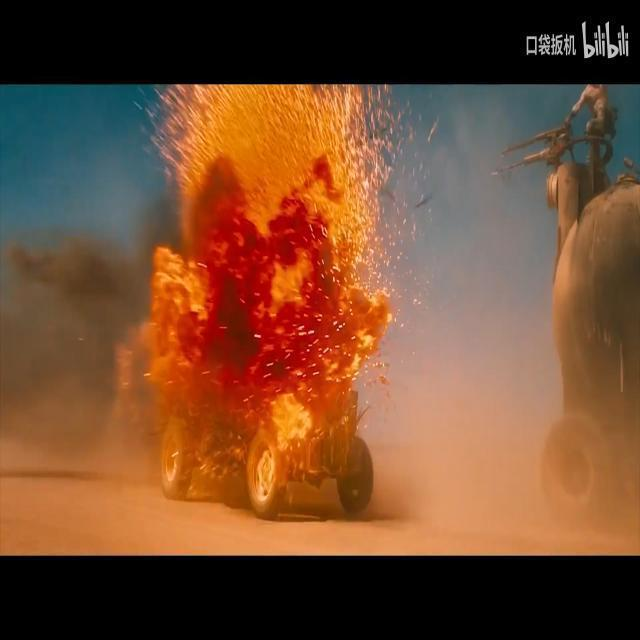fire: (120, 83, 413, 501)
